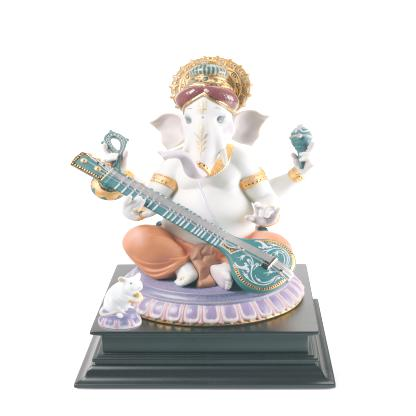Veena: (165, 205, 301, 294)
